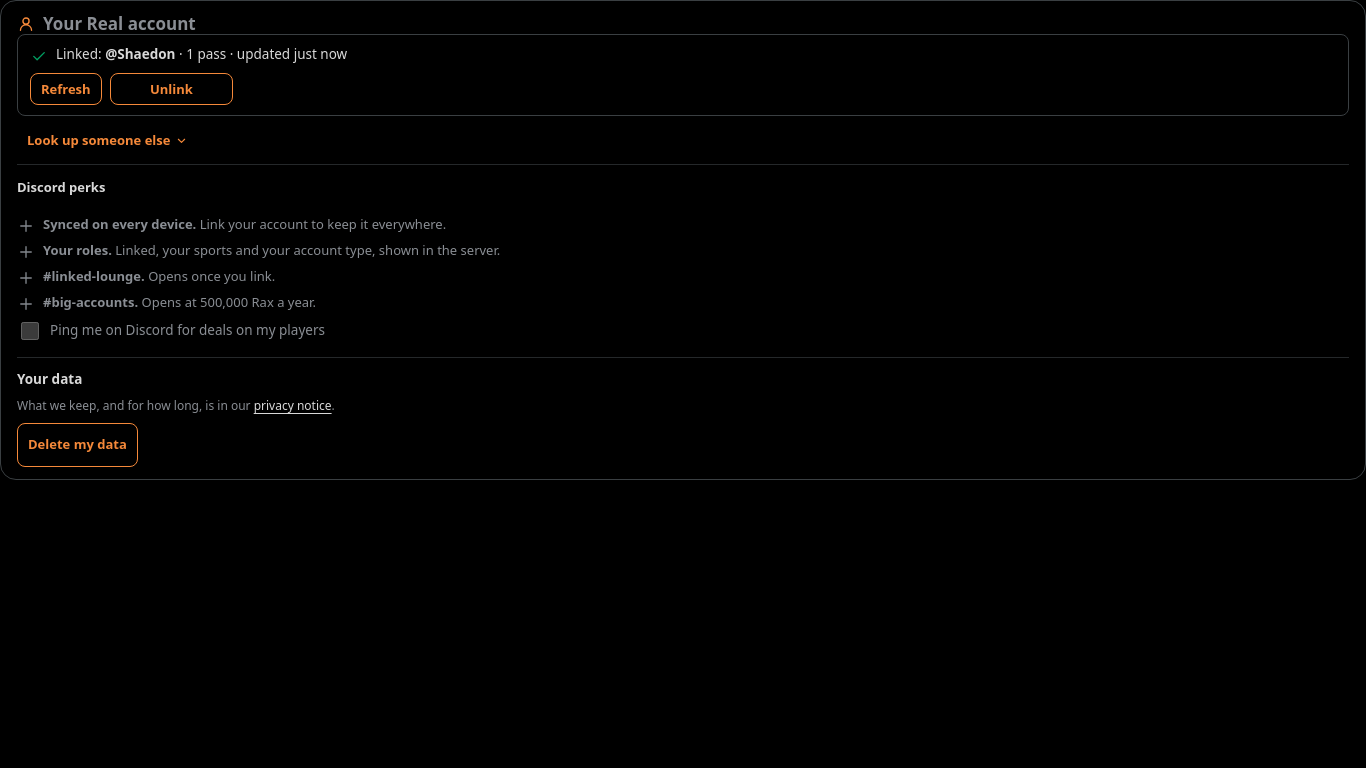
it: Unlink: what the member sees › a 401 answer says why, in the chip, and the button offers Try again
Click the button "Unlink".
click(171, 89)  # box [110,73,233,105]
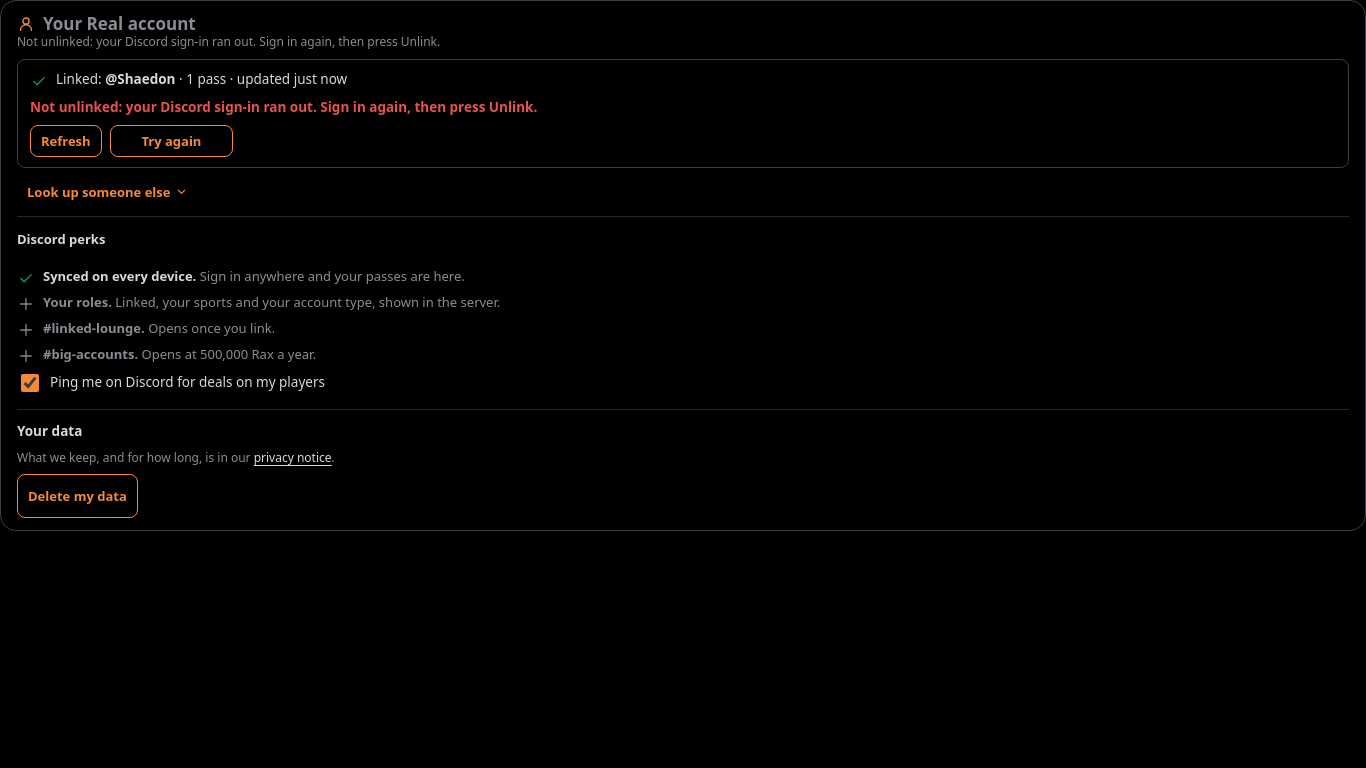
Expected: the button "Try again" is enabled, [110,125,233,157]
Expected: the message "Not unlinked: your Discord sign-in ran out. Sign in again, then press Unlink." below "Shaedon" is shown, [30,98,537,116]
